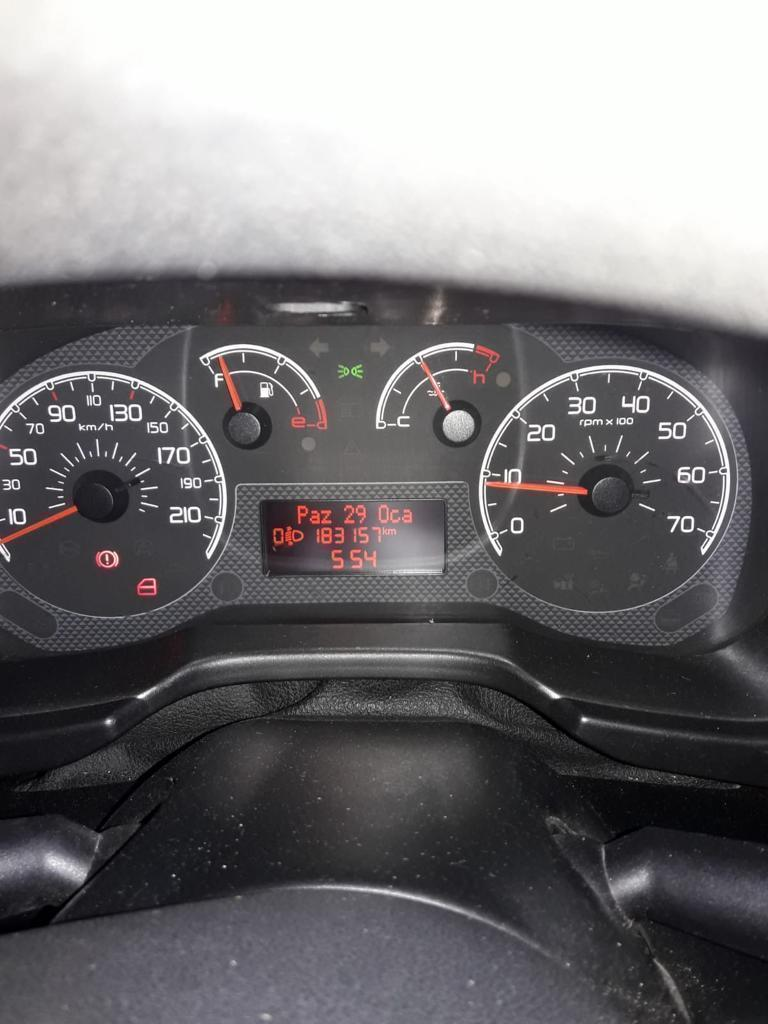0: (272, 527, 284, 545)
1: (352, 527, 357, 543), (315, 528, 320, 543)
2: (343, 504, 355, 524)
3: (333, 526, 344, 544)
4: (363, 549, 376, 568)
5: (330, 549, 344, 569), (349, 549, 362, 568), (357, 526, 369, 543)
7: (371, 526, 381, 542)
8: (320, 527, 332, 543)
9: (355, 504, 367, 523)
X: (378, 504, 389, 523), (297, 504, 307, 524), (320, 509, 332, 524), (309, 510, 321, 524), (401, 508, 412, 523), (389, 508, 400, 523), (387, 528, 396, 535), (382, 526, 387, 535)
odometer: (258, 498, 447, 577)
